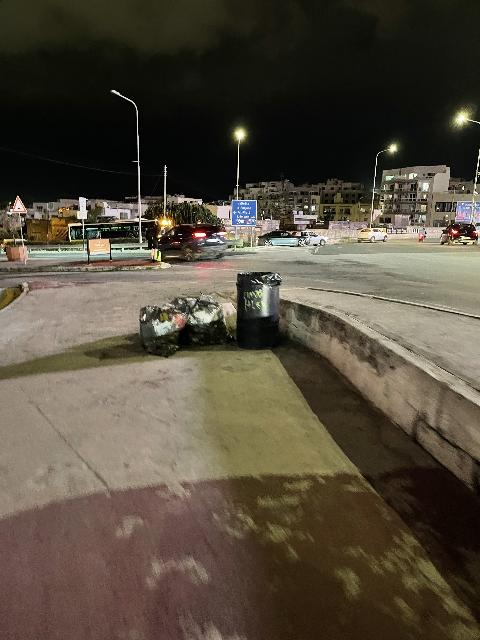Mixed -Black-: (139, 305, 185, 356), (185, 293, 228, 345)
